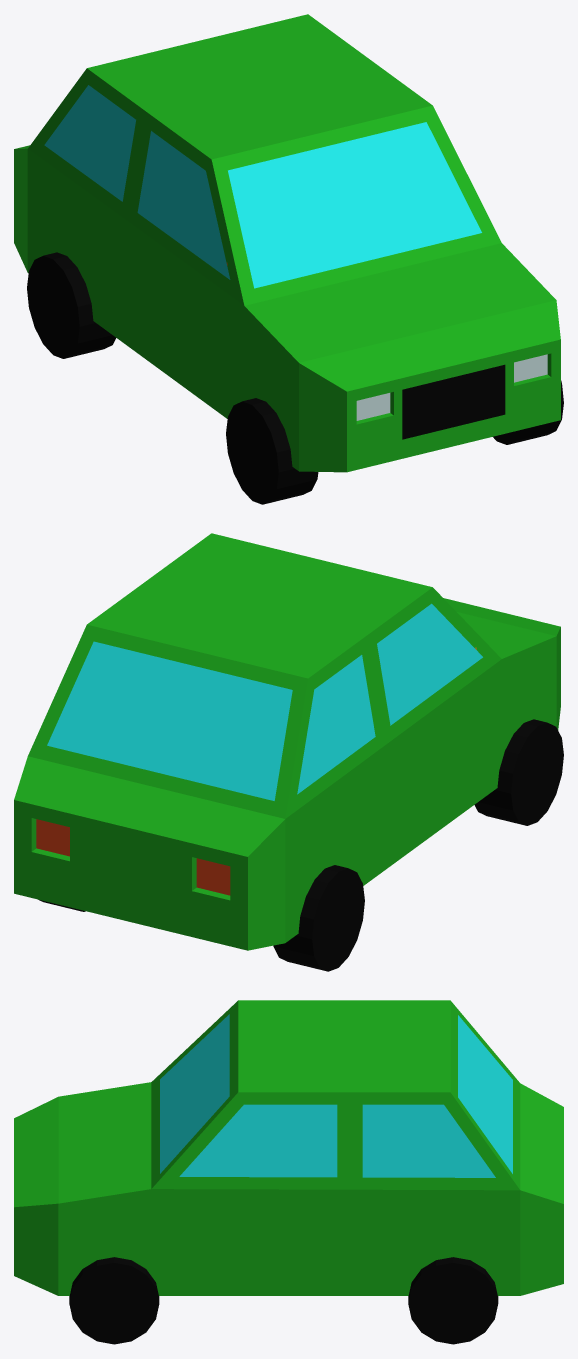
Rendered from car.fbx.
The picture shows the model from 3 angles, top to bottom: view 1: azimuth 30°, elevation 25°; view 2: azimuth 150°, elevation 25°; view 3: azimuth 270°, elevation 25°; orthographic projection. The views are drawn at different scales.
Parts seen in each view (by area): view 1: Cube; view 2: Cube; view 3: Cube.
Part boxes in pixels (x1,y1,x2,y2): Cube: (14,14,563,504); Cube: (14,533,563,971); Cube: (14,1000,563,1344).
Bounding box in the file's own units: 111 × 104 × 217.
